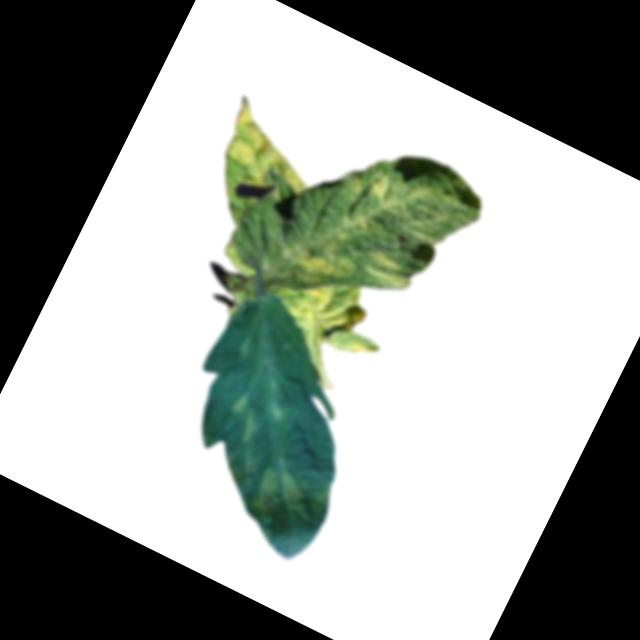Leaf_Mold: (210, 94, 333, 206), (282, 275, 394, 365), (241, 455, 327, 543), (278, 229, 357, 290), (355, 164, 415, 220), (217, 388, 270, 447), (361, 244, 420, 295), (335, 201, 378, 239)
